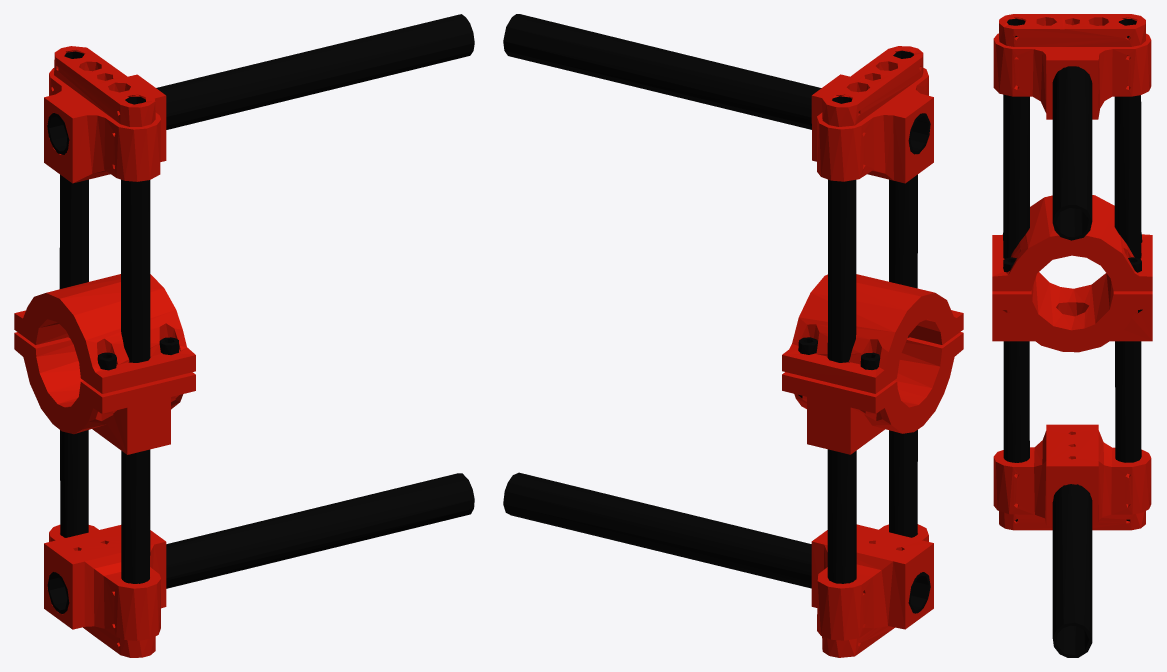
Rendered from valve_gripper.dae.
3 renders of one model, left to right at view 1: azimuth 30°, elevation 25°; view 2: azimuth 150°, elevation 25°; view 3: azimuth 270°, elevation 25°, orthographic. The views are drawn at different scales.
Visible parts, largest first — view 1: End_Valve_Gripper_Black, End_Valve_Gripper_Red; view 2: End_Valve_Gripper_Black, End_Valve_Gripper_Red; view 3: End_Valve_Gripper_Red, End_Valve_Gripper_Black.
Boxes of the visible parts, x1,y1,x2,y2 form: End_Valve_Gripper_Black: [47, 14, 474, 613]; End_Valve_Gripper_Red: [14, 46, 195, 657]; End_Valve_Gripper_Black: [503, 14, 930, 613]; End_Valve_Gripper_Red: [782, 46, 963, 657]; End_Valve_Gripper_Red: [992, 14, 1152, 530]; End_Valve_Gripper_Black: [1003, 19, 1142, 657].
Bounding box in the file's own units: 0.13 × 0.049 × 0.1686.
